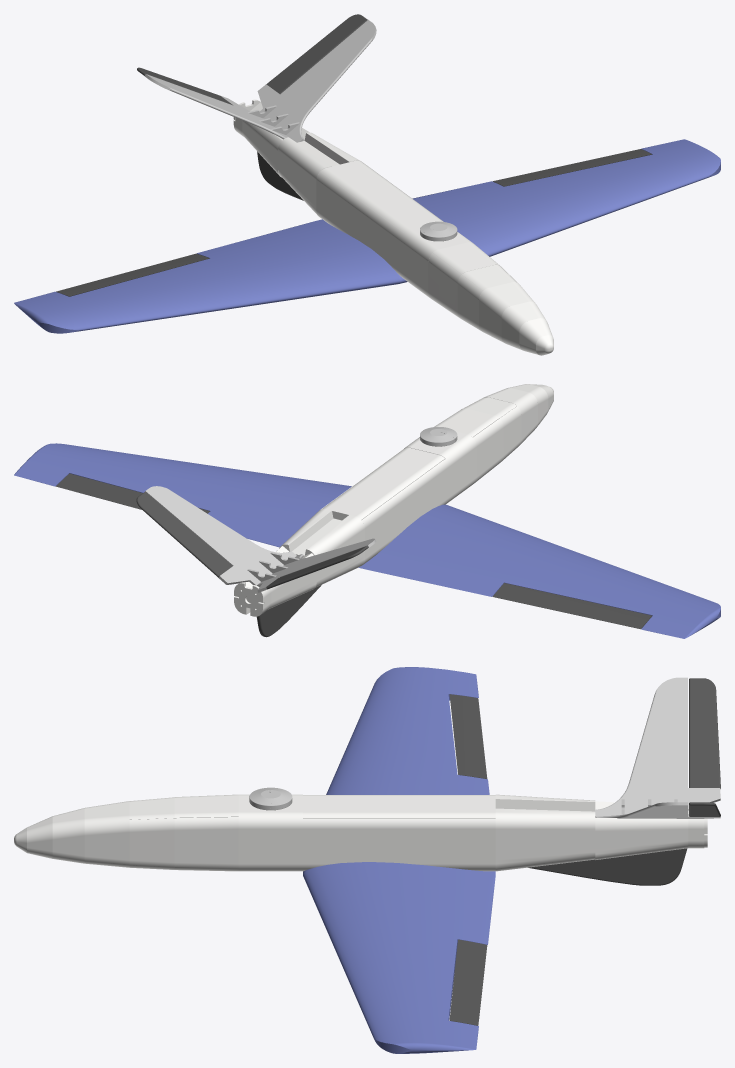
Rendered from PALKONJET.glb.
3 views of the same model, one above another, from view 1: azimuth 30°, elevation 25°; view 2: azimuth 150°, elevation 25°; view 3: azimuth 270°, elevation 25° (orthographic). The views are drawn at different scales.
Parts seen in each view (by area): view 1: Body16, wing2, wing1, Body1.006, Body1.005, Body1.008, aileron2, aileron1, GPS, Body1.001; view 2: Body16, wing2, wing1, Body1.006, aileron2, Body1.005, aileron1, Body1.001, Body1.008, Body1.007, GPS; view 3: Body16, wing1, wing2, Body1.008, Body1.001, Body1.007, aileron1, aileron2, Body1.006, GPS.
Boxes of the visible parts, x1=… form: Body16: x1=233, y1=99, x2=553, y2=355; wing2: x1=14, y1=219, x2=407, y2=333; wing1: x1=412, y1=139, x2=720, y2=256; Body1.006: x1=257, y1=19, x2=376, y2=142; Body1.005: x1=266, y1=14, x2=367, y2=94; Body1.008: x1=144, y1=74, x2=288, y2=139; aileron2: x1=56, y1=253, x2=209, y2=296; aileron1: x1=493, y1=149, x2=651, y2=186; GPS: x1=420, y1=221, x2=457, y2=241; Body1.001: x1=257, y1=151, x2=303, y2=200; Body16: x1=234, y1=384, x2=553, y2=616; wing2: x1=358, y1=504, x2=720, y2=638; wing1: x1=14, y1=443, x2=351, y2=547; Body1.006: x1=145, y1=486, x2=296, y2=585; aileron2: x1=492, y1=583, x2=651, y2=629; Body1.005: x1=136, y1=492, x2=232, y2=577; aileron1: x1=56, y1=473, x2=209, y2=513; Body1.001: x1=256, y1=585, x2=321, y2=637; Body1.008: x1=256, y1=538, x2=375, y2=592; Body1.007: x1=266, y1=546, x2=367, y2=589; GPS: x1=420, y1=427, x2=457, y2=446; Body16: x1=14, y1=794, x2=707, y2=871; wing1: x1=303, y1=862, x2=495, y2=1053; wing2: x1=326, y1=667, x2=489, y2=794; Body1.008: x1=595, y1=677, x2=720, y2=816; Body1.001: x1=528, y1=848, x2=687, y2=885; Body1.007: x1=689, y1=678, x2=720, y2=788; aileron1: x1=449, y1=939, x2=487, y2=1025; aileron2: x1=449, y1=694, x2=487, y2=778; Body1.006: x1=595, y1=802, x2=720, y2=818; GPS: x1=249, y1=787, x2=292, y2=810.
Bounding box in the file's own units: 0.4939 × 0.0882 × 0.3883.
